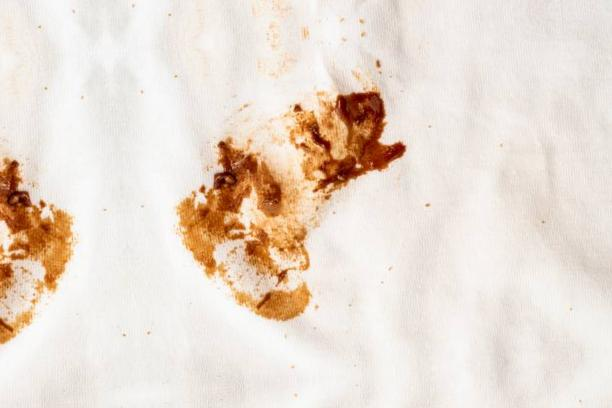stain: (174, 87, 413, 324), (0, 148, 76, 344)
